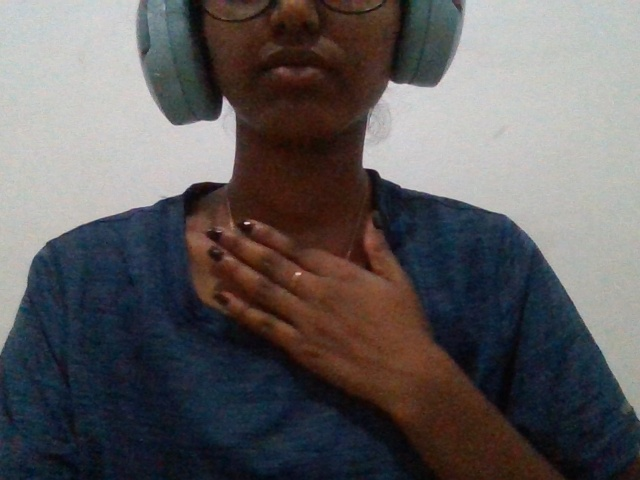Please: (191, 190, 484, 472)
